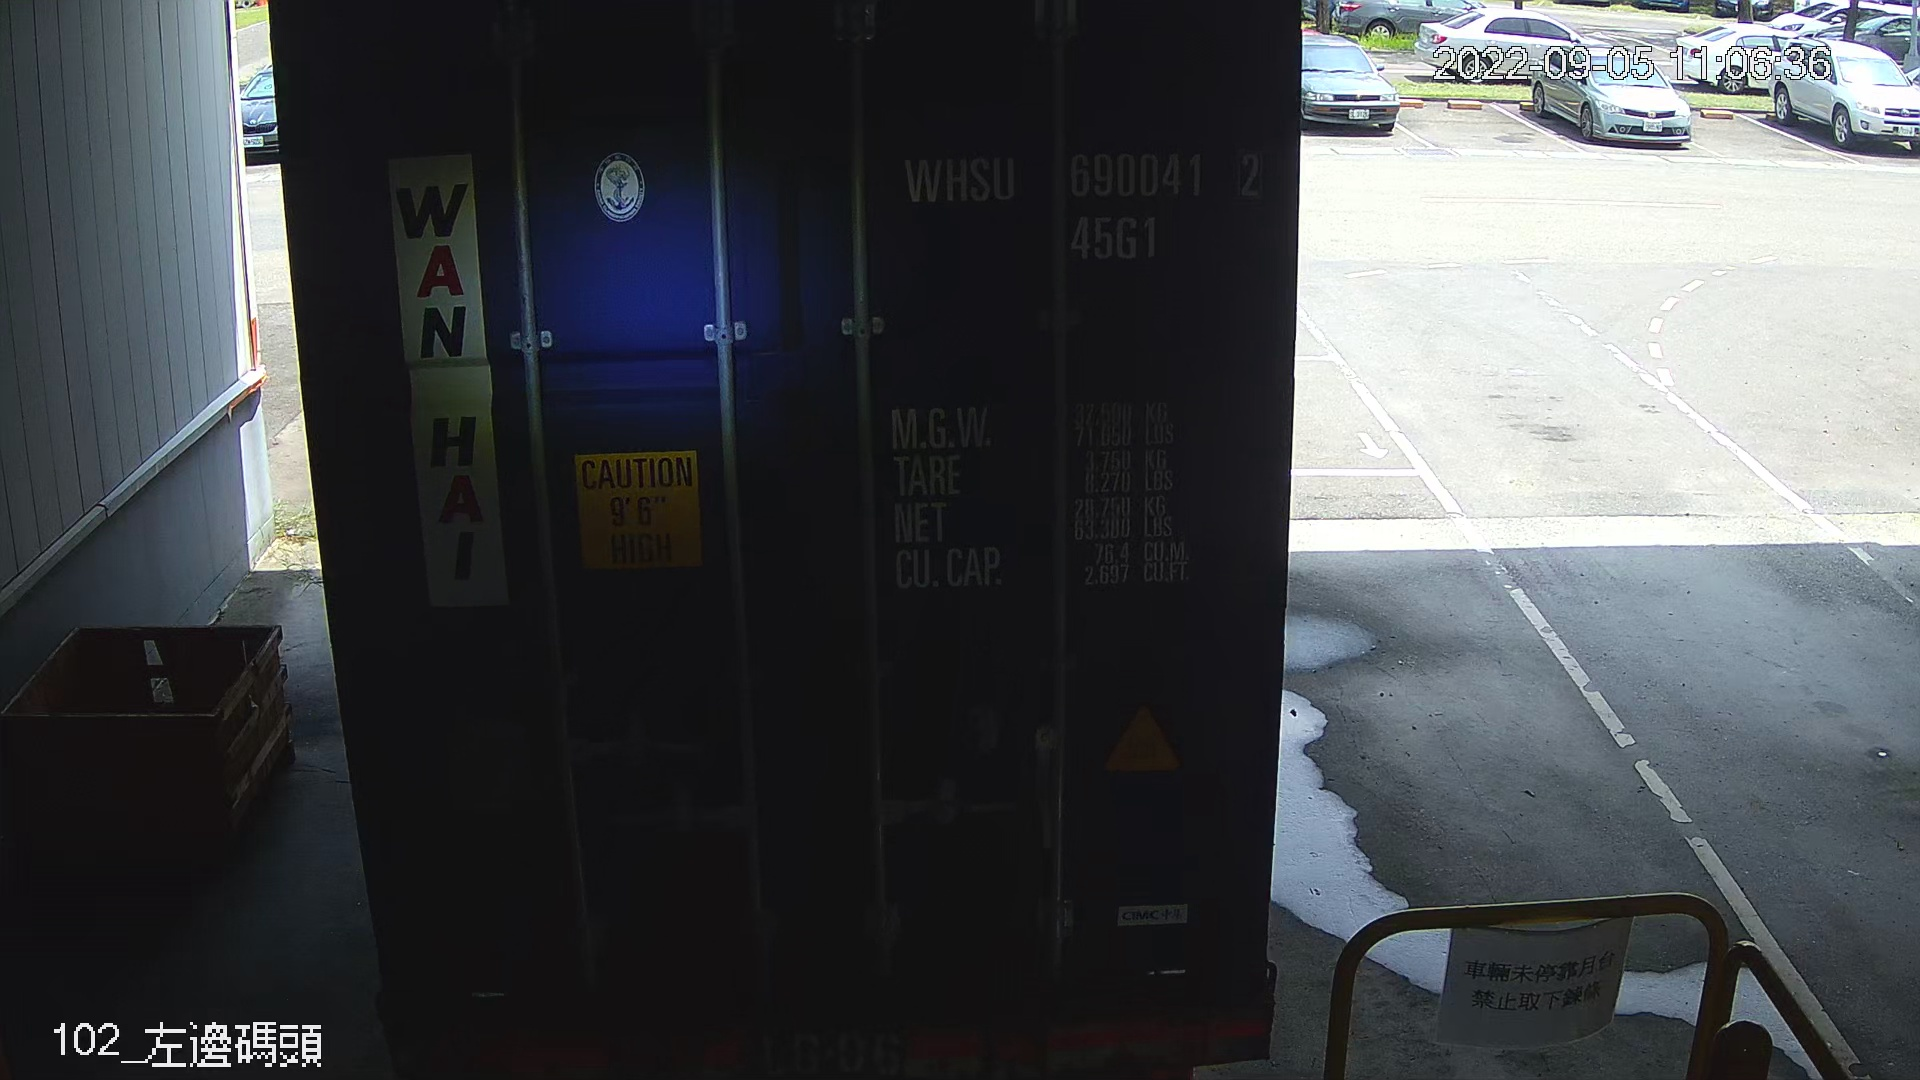container: (889, 129, 1273, 280)
